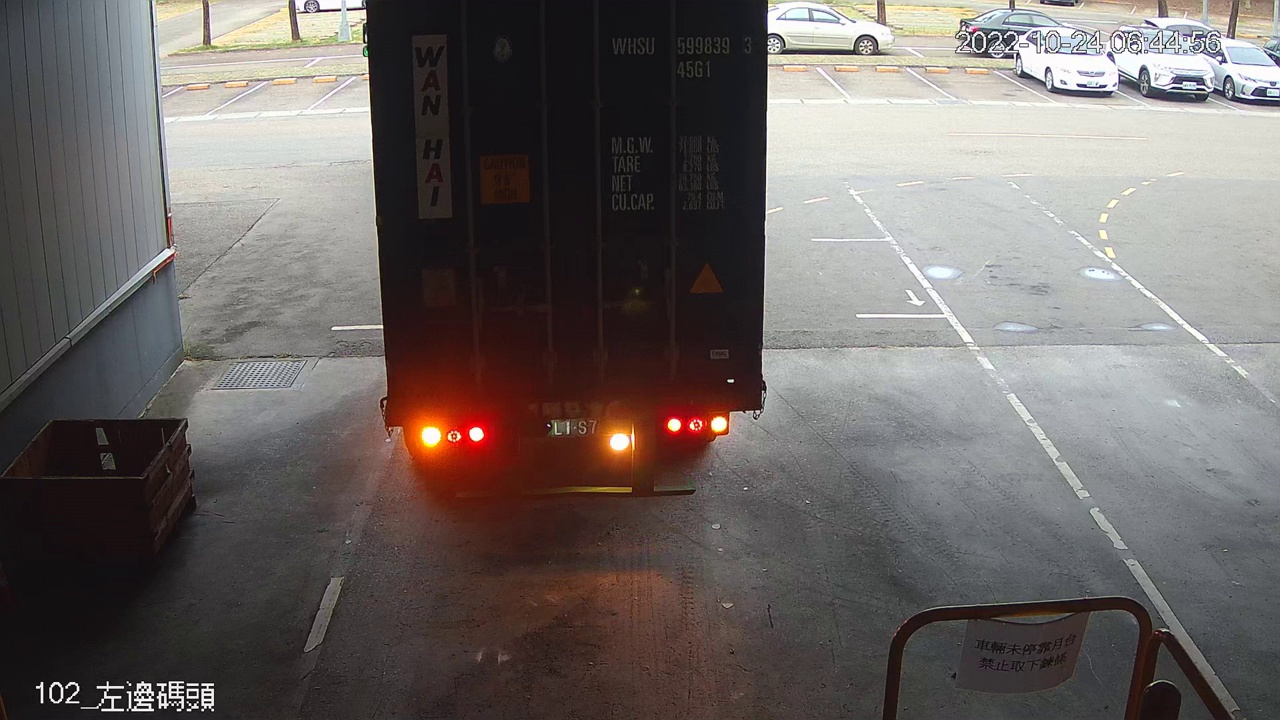container: (604, 28, 761, 84)
